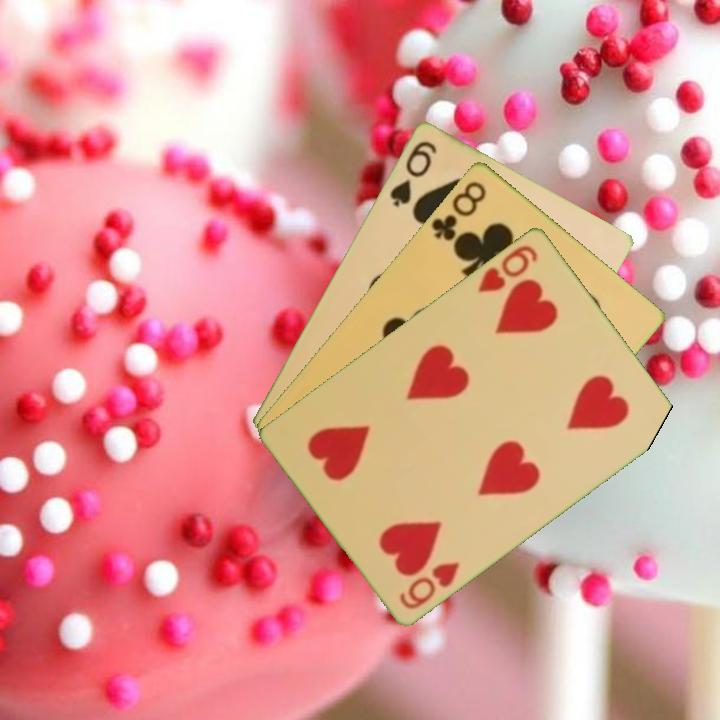6h: (395, 557, 463, 612), (474, 240, 541, 295)
6s: (385, 136, 440, 209)
8c: (427, 176, 490, 244)
